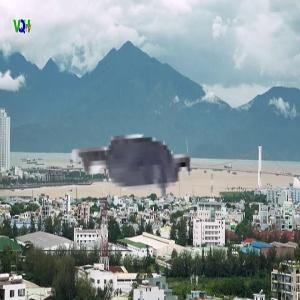drone: (52, 77, 229, 254)
